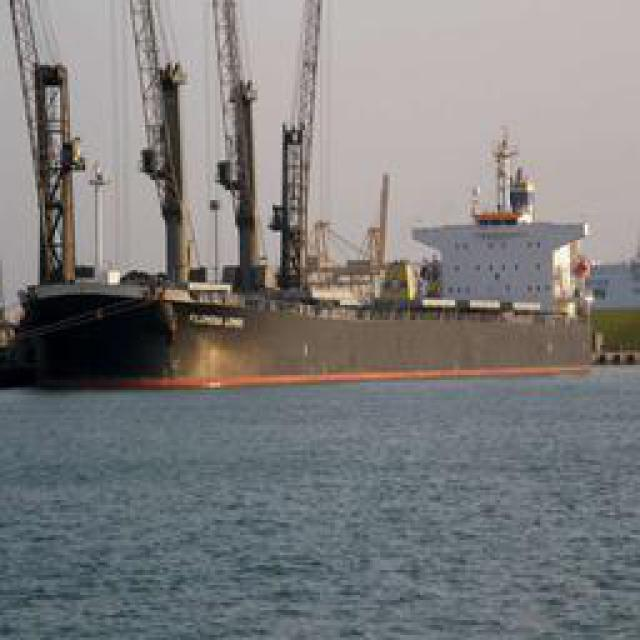Ship: (28, 125, 613, 401)
